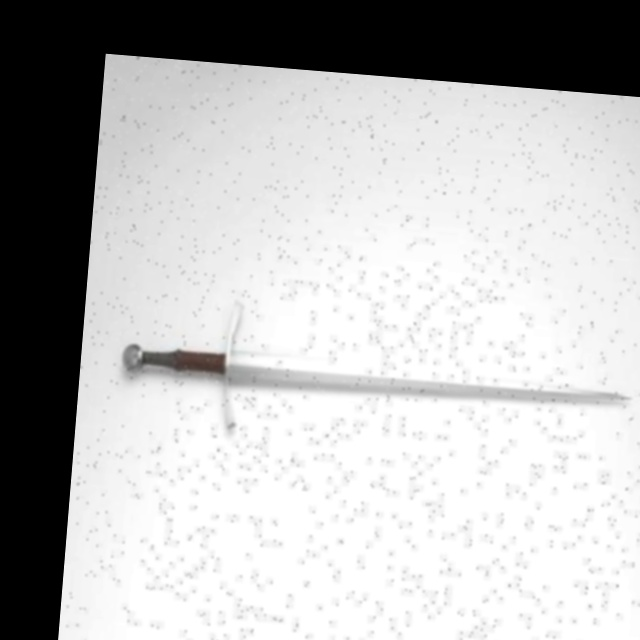Sharp-Object: (112, 329, 633, 425)
